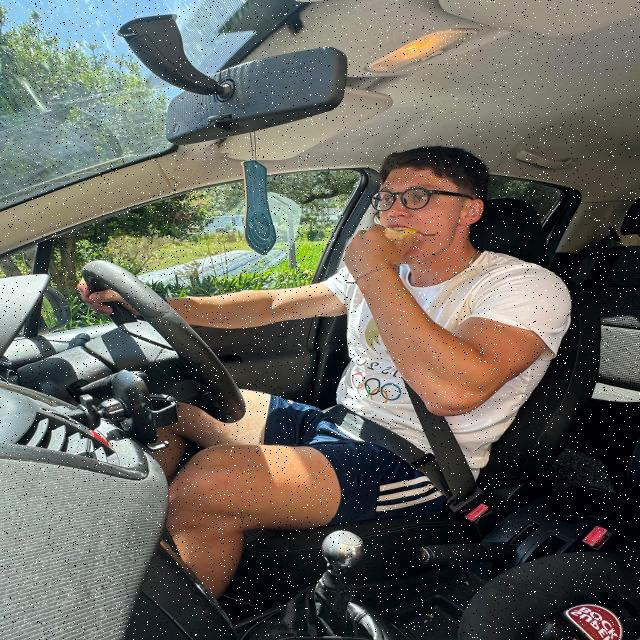Eating: (354, 217, 428, 259)
Seatbelt: (280, 233, 496, 536)
